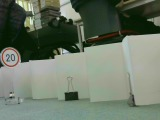speed_20: (1, 47, 21, 68)
